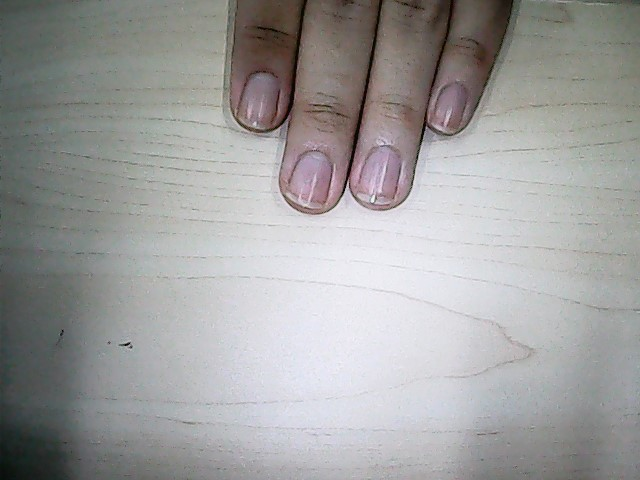nail: (363, 148, 397, 207), (240, 76, 277, 129), (295, 151, 327, 207), (438, 88, 463, 132)
